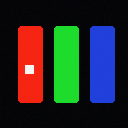1 square: (25, 65, 33, 73)
